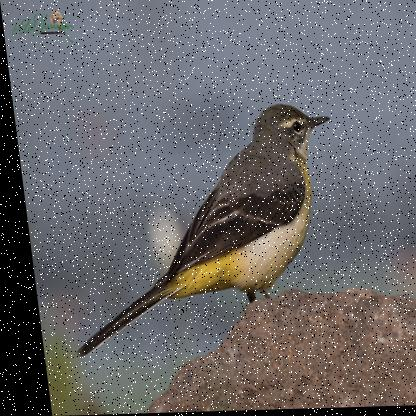Burung: (42, 105, 350, 361)
